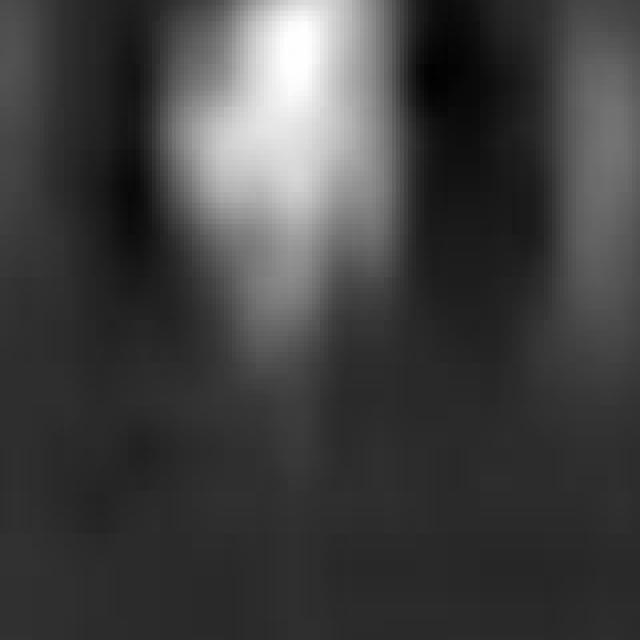person: (125, 1, 437, 422)
